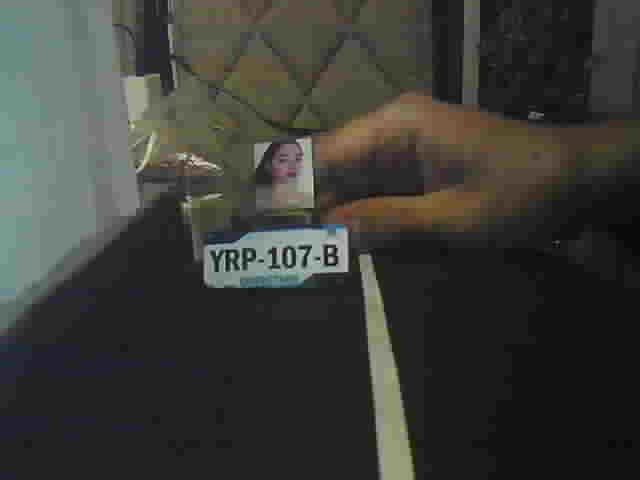PLACA: (200, 223, 351, 291)
ROSTRO: (256, 143, 312, 207)
